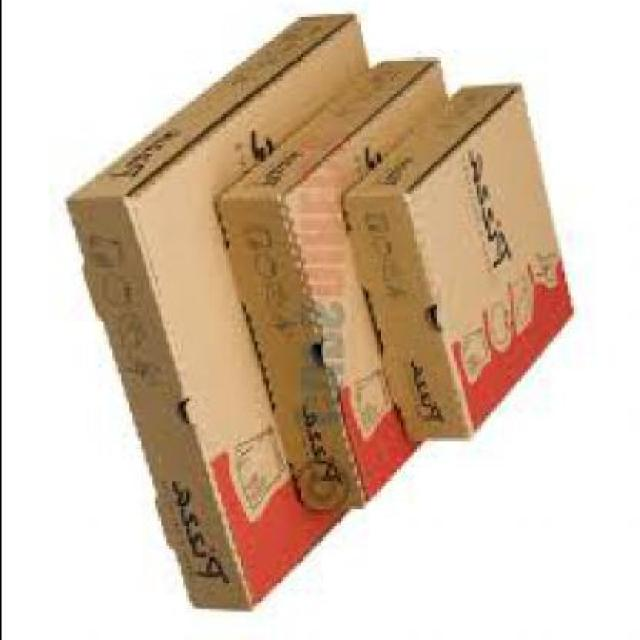CARDBOARD: (65, 20, 370, 611), (213, 62, 450, 512), (344, 88, 578, 444)
